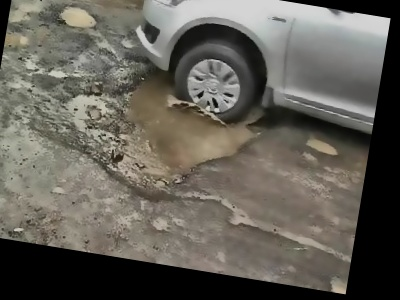pothole: (69, 42, 276, 214), (55, 1, 100, 30), (302, 134, 343, 158), (3, 25, 34, 54)
